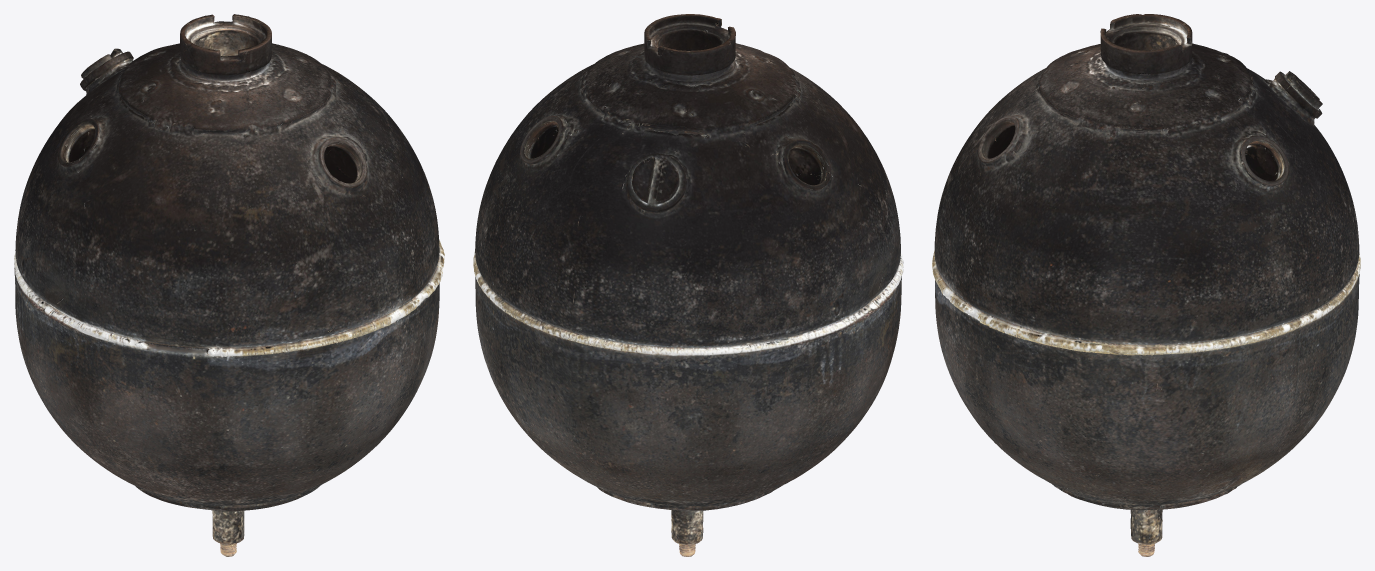
File: british-drifting-mine.glb
3 renders of one model, left to right at view 1: azimuth 30°, elevation 25°; view 2: azimuth 150°, elevation 25°; view 3: azimuth 270°, elevation 25°, orthographic.
Visible parts, largest first — view 1: Seemine_LP_0; view 2: Seemine_LP_0; view 3: Seemine_LP_0.
Part boxes in pixels (<box>): Seemine_LP_0: <box>14,14,444,556</box>; Seemine_LP_0: <box>473,14,903,556</box>; Seemine_LP_0: <box>932,14,1360,556</box>.
Size of the model in its own units: 385 by 516 by 385.
1 material, 1 textured.
